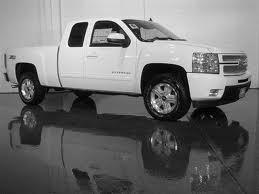car: (1, 15, 253, 123)
